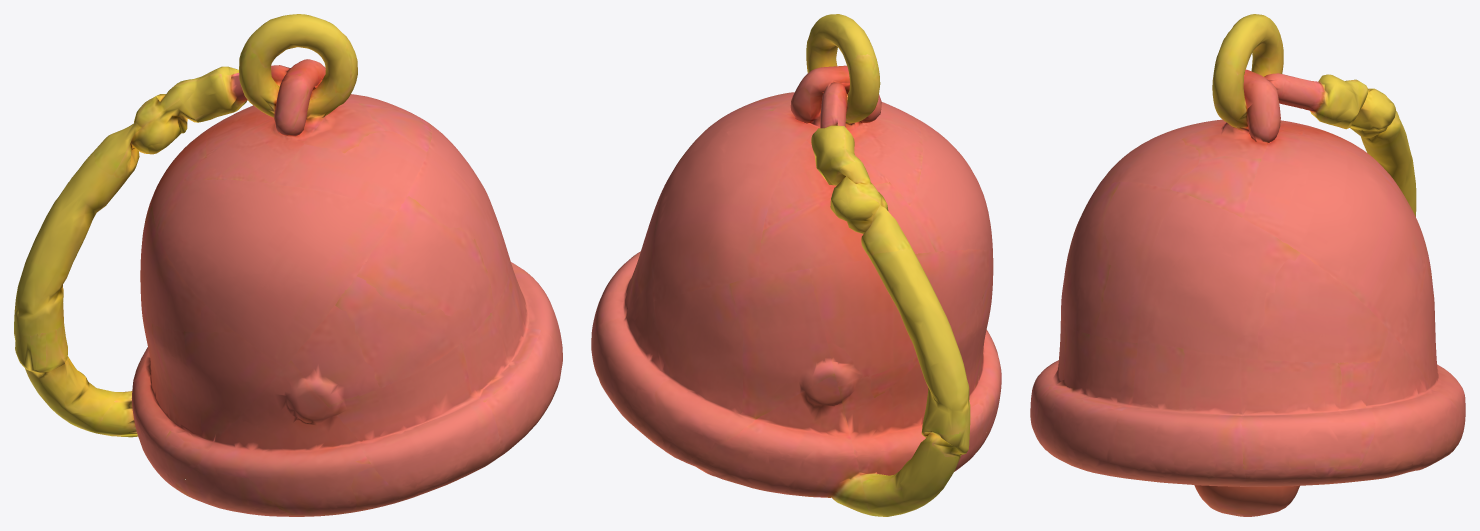
File: acc_necklace_bell_01.glb
The picture shows the model from 3 angles, left to right: view 1: azimuth 30°, elevation 25°; view 2: azimuth 150°, elevation 25°; view 3: azimuth 270°, elevation 25°; orthographic projection. The views are drawn at different scales.
Parts seen in each view (by area): view 1: acc_necklace_bell_01; view 2: acc_necklace_bell_01; view 3: acc_necklace_bell_01.
Part boxes in pixels (x1,y1,x2,y2): acc_necklace_bell_01: (14,14,562,516); acc_necklace_bell_01: (591,14,1001,516); acc_necklace_bell_01: (1030,14,1465,516).
Bounding box in the file's own units: 0.1553 × 0.16 × 0.1349.
1 material, 1 textured.
